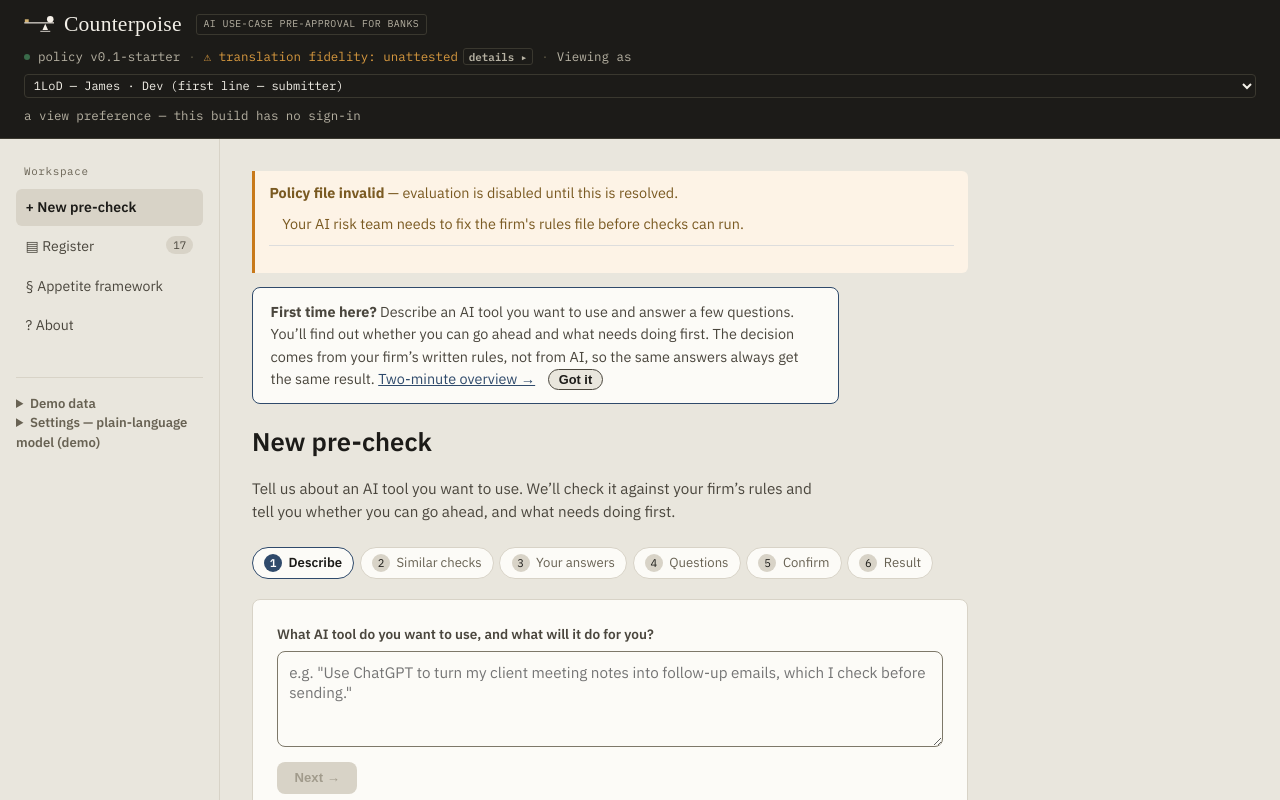
Test: §3 (DR7-10): focus moves and the step change is announced › TC-R16-F-46: a step change (not the first load) moves focus to the step container and announces the new step
Click the text box labelled "What AI tool do you want to use": (610, 699) [277,651,943,747]
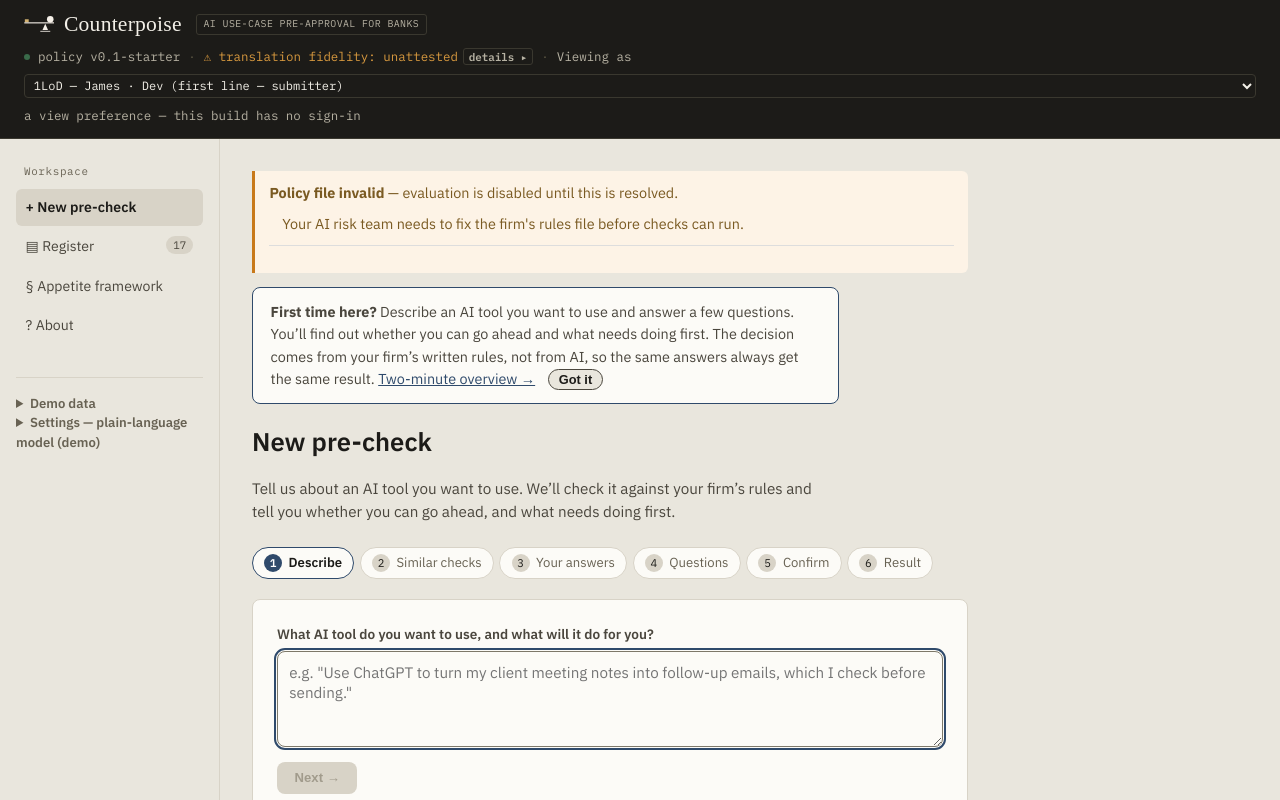
Type keys "Focus announcement probe"
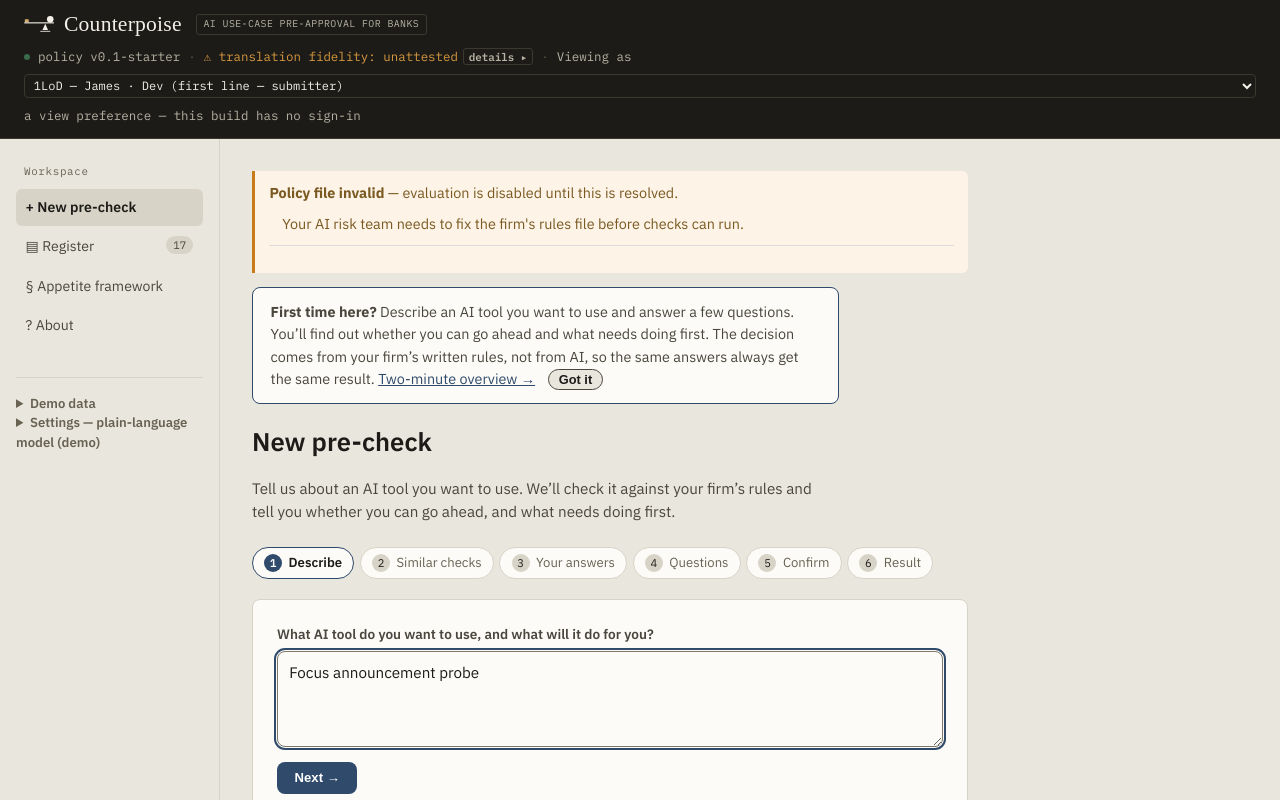
Click the button "Next →": (317, 778) [277,762,357,794]
(page scrolled)
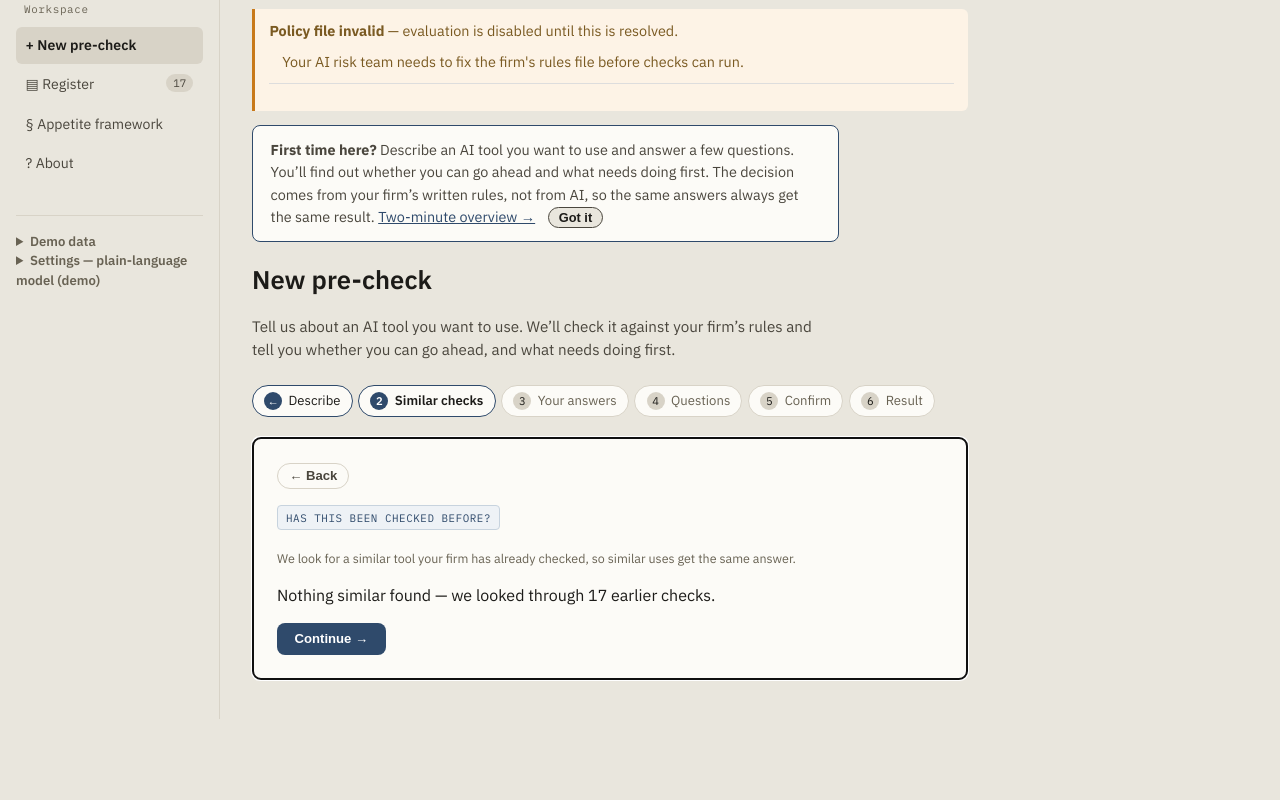
Expected: the text "HAS THIS BEEN CHECKED BEFORE?" is shown, [277,505,500,530]
